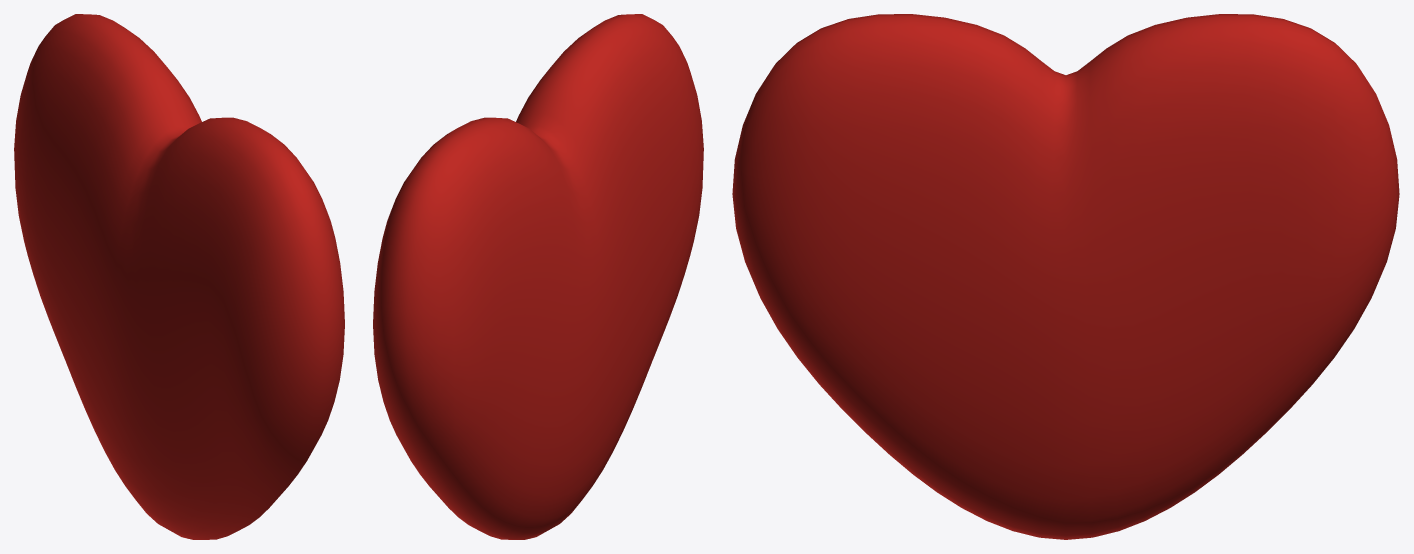
Rendered from Heart.fbx.
3 views of the same model, side by side, from view 1: azimuth 30°, elevation 25°; view 2: azimuth 150°, elevation 25°; view 3: azimuth 270°, elevation 25° (orthographic). The views are drawn at different scales.
Parts seen in each view (by area): view 1: Cube; view 2: Cube; view 3: Cube.
Boxes of the visible parts, left/top/right/bottom form: Cube: left=14, top=14, right=344, bottom=539; Cube: left=373, top=14, right=703, bottom=539; Cube: left=732, top=14, right=1399, bottom=539.
Bounding box in the file's own units: 59.03 × 206 × 240.
